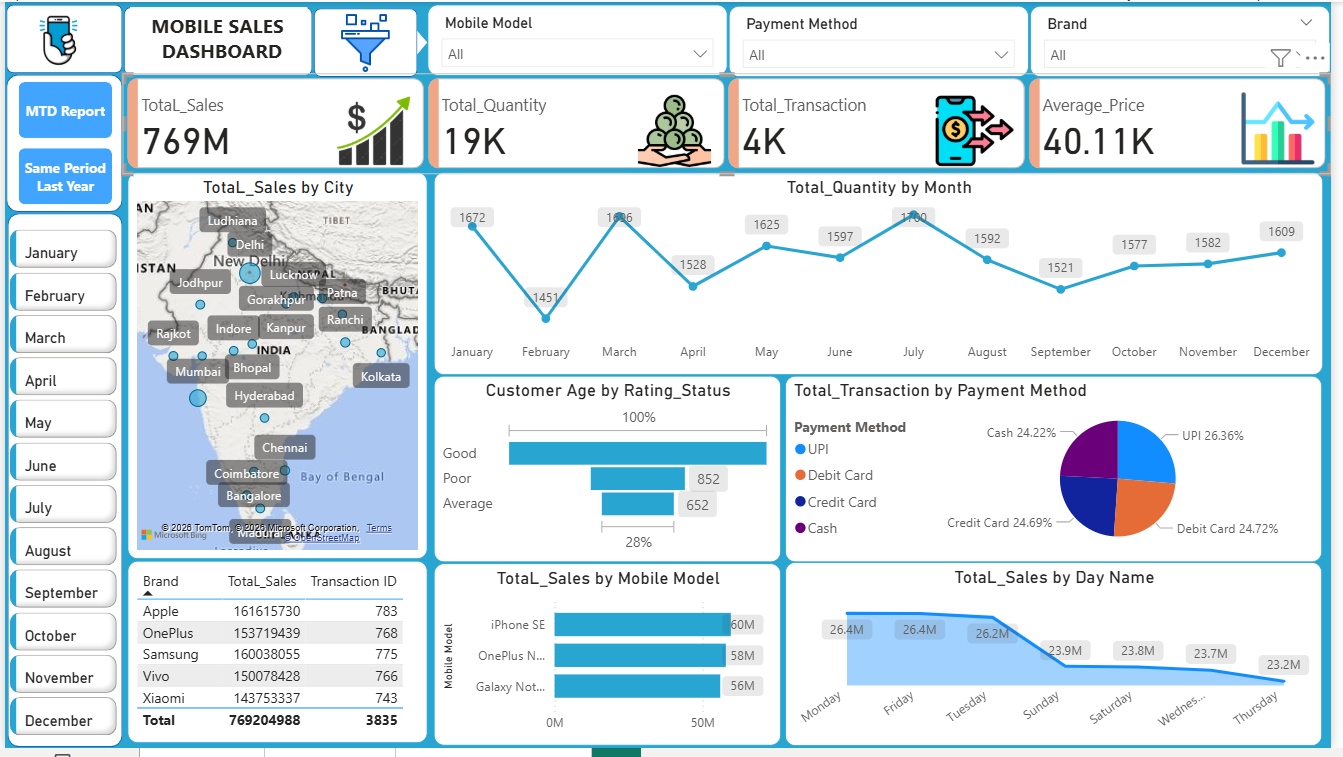

The page's visual inventory and layout, read from the dashboard file:
{"tool":"powerbi","page":{"name":"Dashboard","canvas":[1280,720],"ordinal":0},"visuals":[{"type":"shape","box":[1.2,2.4,112.2,66.4],"z":0},{"type":"shape","box":[1.2,70,112.2,132.7],"z":1000},{"type":"shape","box":[2.4,203.9,111,515.2],"z":2000},{"type":"advancedSlicerVisual","fields":{"Values":["Costom_Calender.Date.Variation.Date Hierarchy.Month"]},"box":[0,214.7,113.4,505.5],"z":3000},{"type":"cardVisual","fields":{"Data":["Sales_Data.TotaL_Sales","Sales_Data.Total_Quantity","Sales_Data.Total_Transaction","Sales_Data.Average_Price"]},"box":[113.4,68.8,1166.6,97.7],"z":4000},{"type":"image","box":[12.1,1.2,78.4,71.2],"z":5000},{"type":"slicer","fields":{"Values":["Sales_Data.Mobile Model"]},"box":[407.8,2.4,289.5,68.8],"z":6000},{"type":"slicer","fields":{"Values":["Sales_Data.Payment Method"]},"box":[698.5,3.6,289.5,68.8],"z":7000},{"type":"slicer","fields":{"Values":["Sales_Data.Brand"]},"box":[989.3,3.6,289.5,68.8],"z":8000},{"type":"shape","box":[114.6,4.8,182.2,66.4],"z":9000},{"type":"shape","box":[386.1,26.5,21.7,25.3],"z":10000},{"type":"shape","box":[298,6,100.1,66.4],"z":11000},{"type":"image","box":[272.7,6,150.8,67.6],"z":12000},{"type":"textbox","box":[120.6,4.8,171.3,62.7],"z":13000},{"type":"lineChart","fields":{"Y":["Sales_Data.Total_Quantity"],"Category":["Costom_Calender.Date.Variation.Date Hierarchy.Month"]},"box":[413.8,163.8,858.8,196.2],"z":14000},{"type":"funnel","fields":{"Y":["CountNonNull(Sales_Data.Customer Age)"],"Category":["Sales_Data.Rating_Status"]},"box":[413.8,360.7,335.4,179.8],"z":15000},{"type":"pieChart","fields":{"Category":["Sales_Data.Payment Method"],"Y":["Sales_Data.Total_Transaction"]},"box":[752.8,360.7,518.8,179.8],"z":16000},{"type":"clusteredBarChart","fields":{"Y":["Sales_Data.TotaL_Sales"],"Category":["Sales_Data.Mobile Model"]},"box":[413.8,541.7,335.4,176.1],"z":17000},{"type":"treemap","fields":{"Group":["Sales_Data.City"],"Values":["Sales_Data.TotaL_Sales"]},"box":[118.2,164.1,289.5,374],"z":18000},{"type":"areaChart","fields":{"Category":["Costom_Calender.Day Name"],"Y":["Sales_Data.TotaL_Sales"]},"box":[752.8,540.5,518.8,177.3],"z":19000},{"type":"tableEx","fields":{"Values":["Sales_Data.Brand","Sales_Data.TotaL_Sales","CountNonNull(Sales_Data.Transaction ID)"]},"box":[118.2,539.3,289.5,176.1],"z":20000},{"type":"pageNavigator","box":[13.3,77.2,90.5,118.2],"z":20001}]}

Visuals, with their boxes in screenshot pixels (x1, y1, x2, y2), scaled from the page's 1280x720 canvas onto the 1343x757 screenshot:
shape: <region>1, 3, 119, 72</region>
shape: <region>1, 74, 119, 213</region>
shape: <region>3, 214, 119, 756</region>
advancedSlicerVisual - Costom_Calender.Date.Variation.Date Hierarchy.Month: <region>0, 226, 119, 756</region>
cardVisual - Sales_Data.TotaL_Sales x Sales_Data.Total_Quantity: <region>119, 72, 1342, 175</region>
image: <region>13, 1, 95, 76</region>
slicer - Sales_Data.Mobile Model: <region>428, 3, 732, 75</region>
slicer - Sales_Data.Payment Method: <region>733, 4, 1037, 76</region>
slicer - Sales_Data.Brand: <region>1038, 4, 1342, 76</region>
shape: <region>120, 5, 311, 75</region>
shape: <region>405, 28, 428, 54</region>
shape: <region>313, 6, 418, 76</region>
image: <region>286, 6, 444, 77</region>
textbox: <region>127, 5, 306, 71</region>
lineChart - Sales_Data.Total_Quantity x Costom_Calender.Date.Variation.Date Hierarchy.Month: <region>434, 172, 1335, 378</region>
funnel - CountNonNull(Sales_Data.Customer Age) x Sales_Data.Rating_Status: <region>434, 379, 786, 568</region>
pieChart - Sales_Data.Payment Method x Sales_Data.Total_Transaction: <region>790, 379, 1334, 568</region>
clusteredBarChart - Sales_Data.TotaL_Sales x Sales_Data.Mobile Model: <region>434, 570, 786, 755</region>
treemap - Sales_Data.City x Sales_Data.TotaL_Sales: <region>124, 173, 428, 566</region>
areaChart - Costom_Calender.Day Name x Sales_Data.TotaL_Sales: <region>790, 568, 1334, 755</region>
tableEx - Sales_Data.Brand x Sales_Data.TotaL_Sales: <region>124, 567, 428, 752</region>
pageNavigator: <region>14, 81, 109, 205</region>
